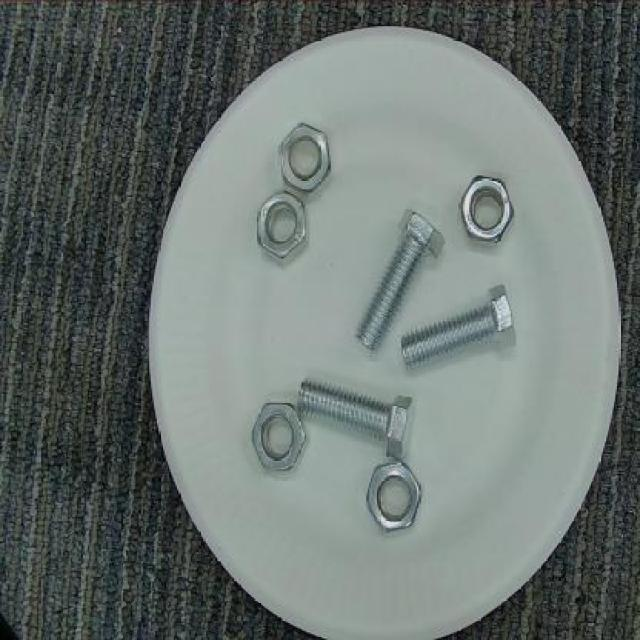Bolt: (352, 208, 444, 362), (397, 288, 519, 374), (294, 377, 416, 458)
Nut: (252, 192, 314, 270), (362, 460, 423, 537), (248, 398, 308, 476), (274, 120, 332, 194), (458, 174, 514, 248)
